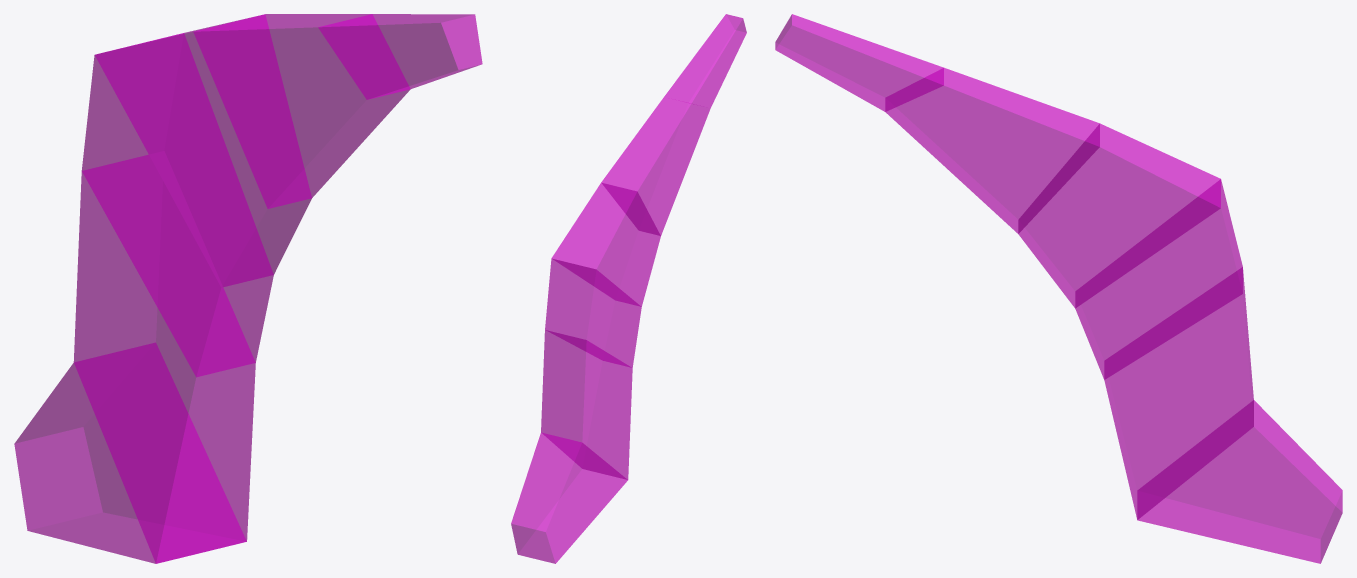
Rendered from SM_Veh_Ship_L_Figurehead_05_Collision.fbx.
3 views of the same model, side by side, from view 1: azimuth 30°, elevation 25°; view 2: azimuth 150°, elevation 25°; view 3: azimuth 270°, elevation 25° (orthographic). The views are drawn at different scales.
Parts seen in each view (by area): view 1: SM_Veh_Ship_L_Figurehead_05_Collision; view 2: SM_Veh_Ship_L_Figurehead_05_Collision; view 3: SM_Veh_Ship_L_Figurehead_05_Collision.
Part boxes in pixels (bbox=[...]): SM_Veh_Ship_L_Figurehead_05_Collision: bbox=[14, 14, 482, 563]; SM_Veh_Ship_L_Figurehead_05_Collision: bbox=[511, 14, 746, 563]; SM_Veh_Ship_L_Figurehead_05_Collision: bbox=[775, 14, 1342, 563].
Bounding box in the file's own units: 124 × 1025 × 991.
